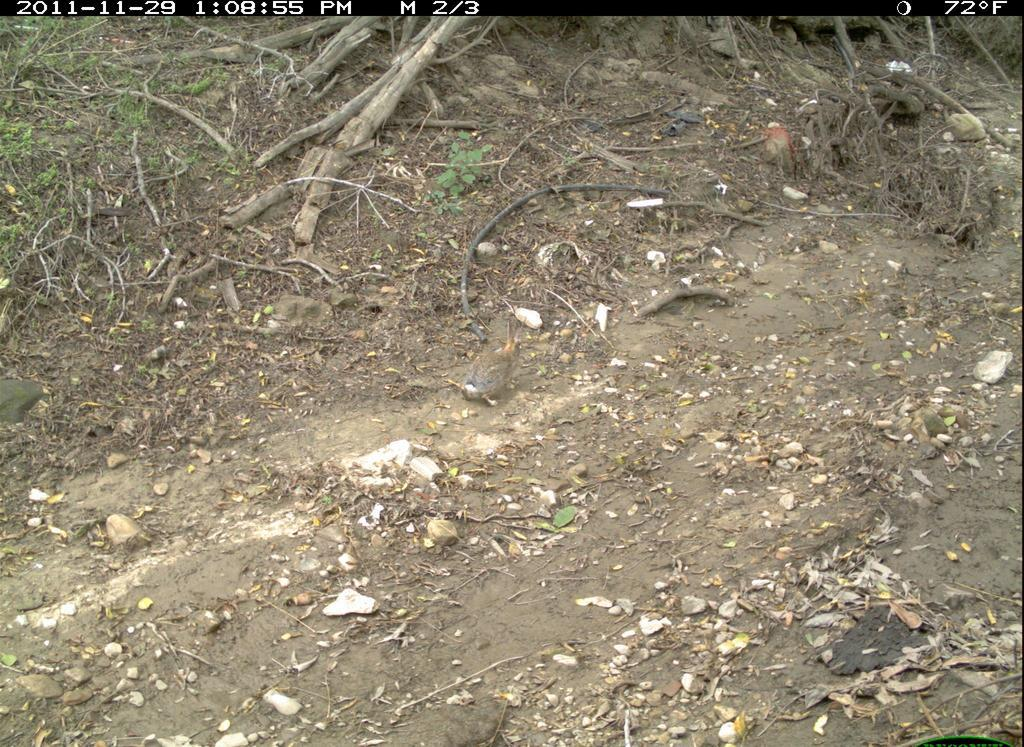rabbit: (459, 314, 528, 410)
